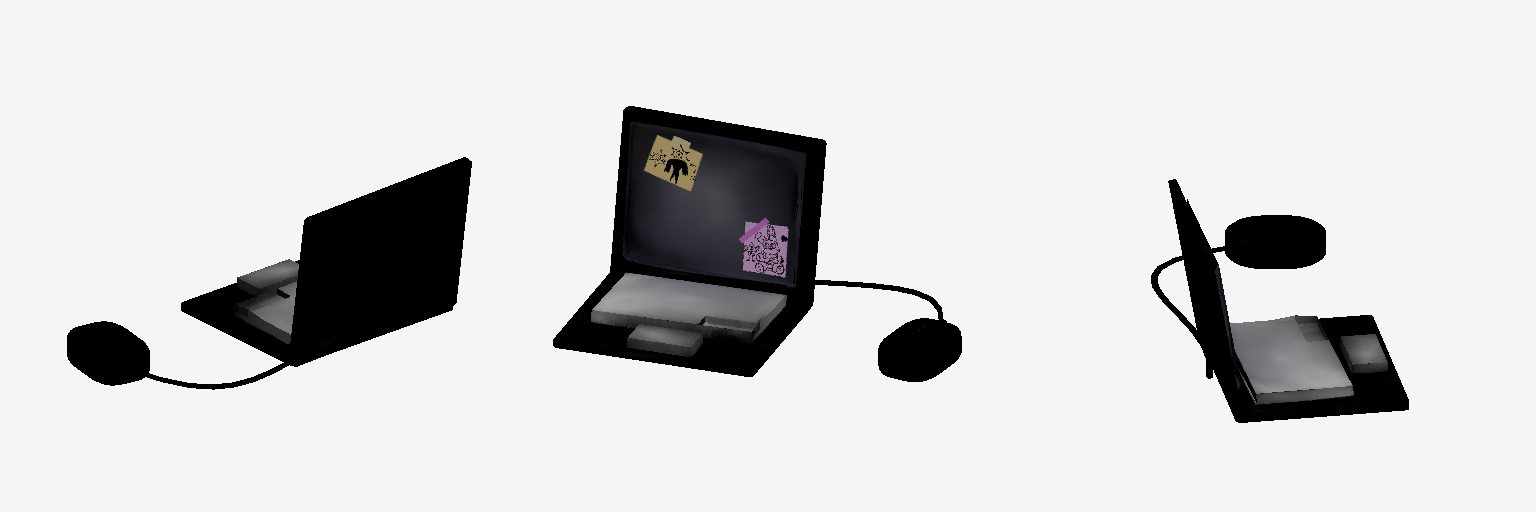
3 views of the same model, side by side, from view 1: azimuth 30°, elevation 25°; view 2: azimuth 150°, elevation 25°; view 3: azimuth 270°, elevation 25° (orthographic).
Visible parts, largest first — view 1: Cube.001_Cube.002_None.001; view 2: Cube.001_Cube.002_None.001; view 3: Cube.001_Cube.002_None.001.
Part boxes in pixels (bbox=[...]): Cube.001_Cube.002_None.001: bbox=[67, 157, 471, 389]; Cube.001_Cube.002_None.001: bbox=[553, 106, 961, 381]; Cube.001_Cube.002_None.001: bbox=[1151, 179, 1408, 422].
Size of the model in its own units: 1.13 by 0.491 by 0.71.
Materials: 1 (1 with a texture image).